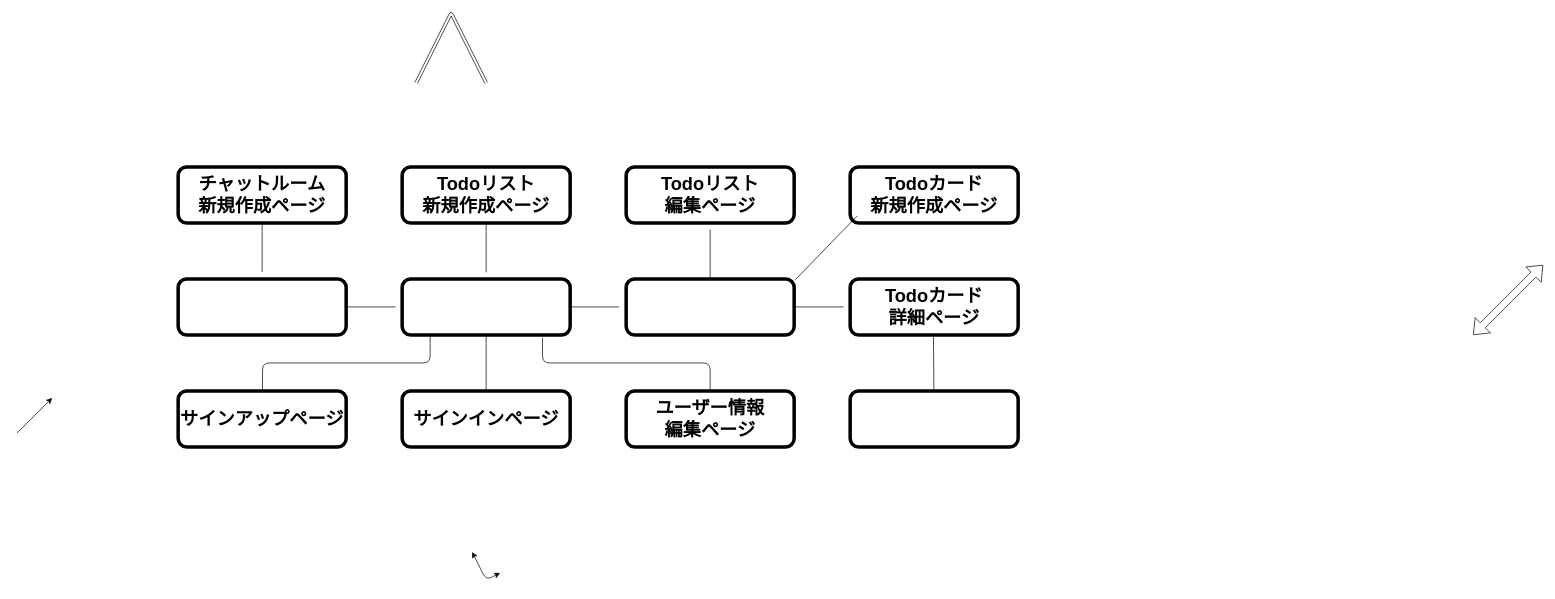
This 1555x599 diagram has some shape labels left out. The centre of each missing label's shape, as x and y in pixels:
Todoカード 編集ページ: the point at 934,418
Todoリスト メインページ: the point at 710,306
チャットルーム ページ: the point at 262,306
トップページ: the point at 486,306
